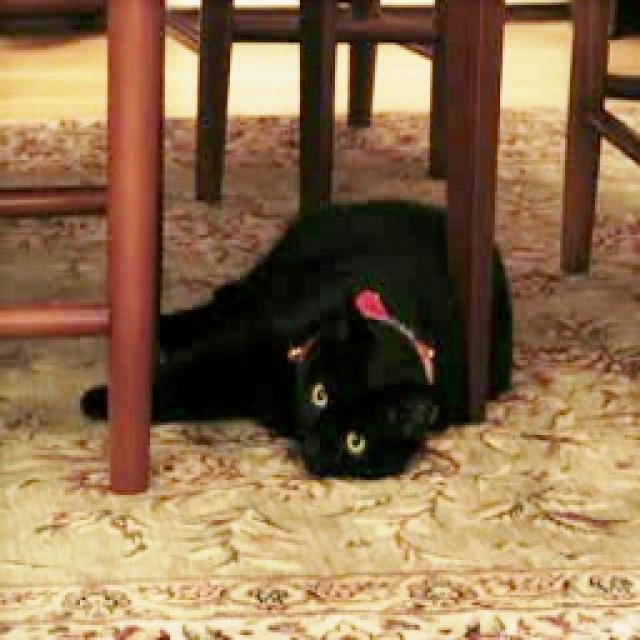cat: (77, 198, 518, 488)
